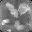people: (19, 2, 30, 14), (14, 20, 25, 31), (5, 2, 15, 13), (10, 9, 18, 18), (1, 19, 11, 25)
